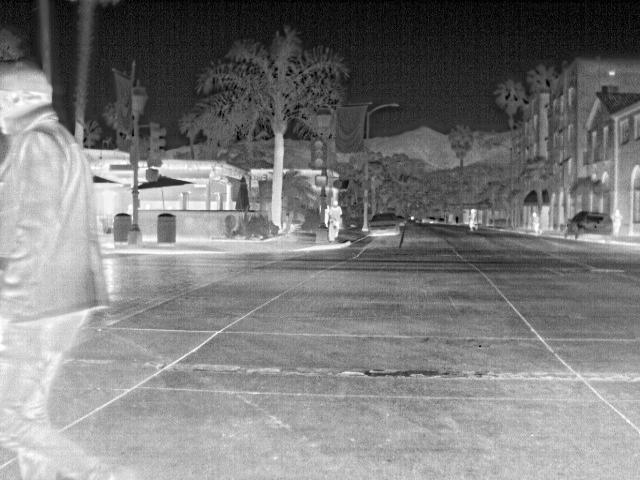car: (564, 209, 612, 243), (366, 213, 403, 237)
person: (2, 58, 120, 477), (327, 197, 345, 241), (465, 208, 481, 234), (612, 207, 624, 238), (531, 211, 543, 235)
